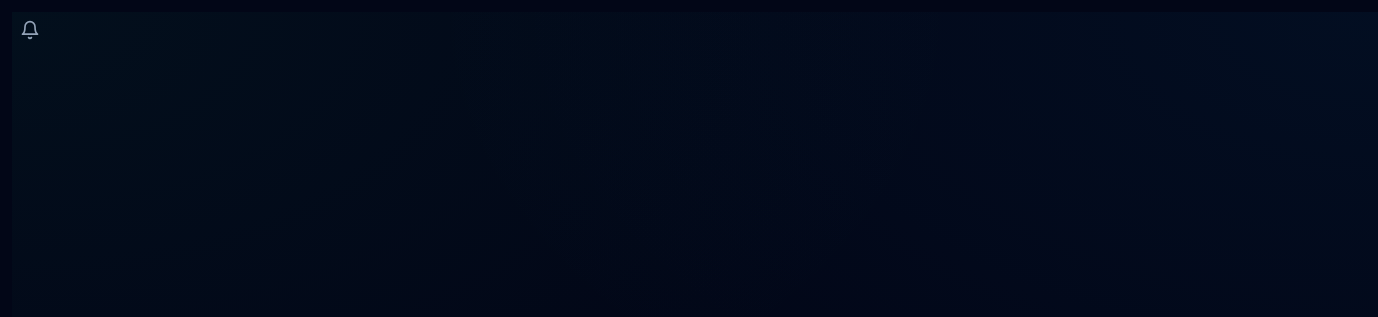
Scenario: NotificationBell — open popover › opens popover when Bell button clicked
Click the button named "Notifications".
click(30, 30)  # box [12, 12, 48, 48]
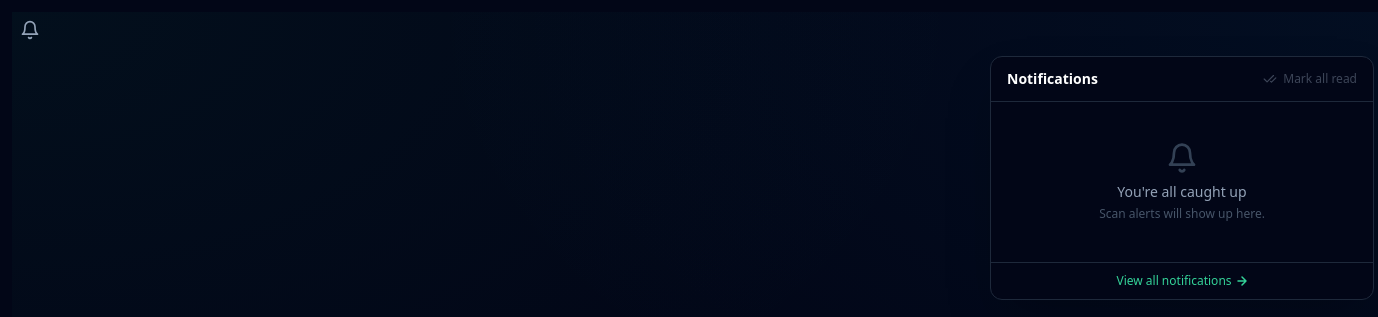
expect the text "Notifications" is shown: met, box [1007, 69, 1098, 89]
